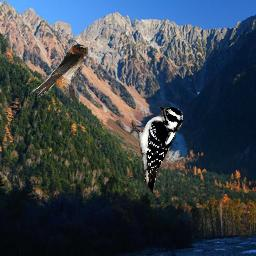Swallow: (30, 44, 88, 98)
Woodpecker: (130, 107, 183, 196)
